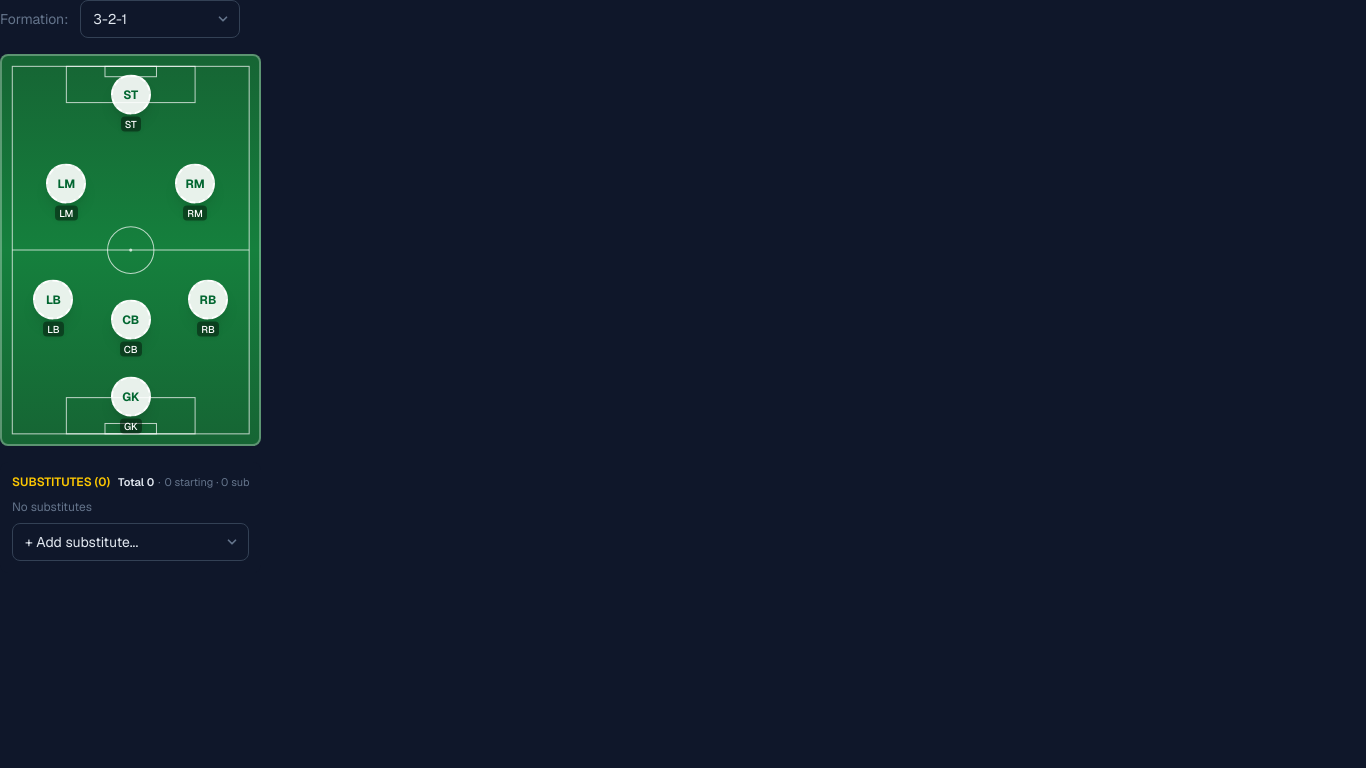
TacticsPanel › close × on modal dismisses it
Click the button with aria-label "assign player to GK": (131, 405) [111, 377, 151, 434]
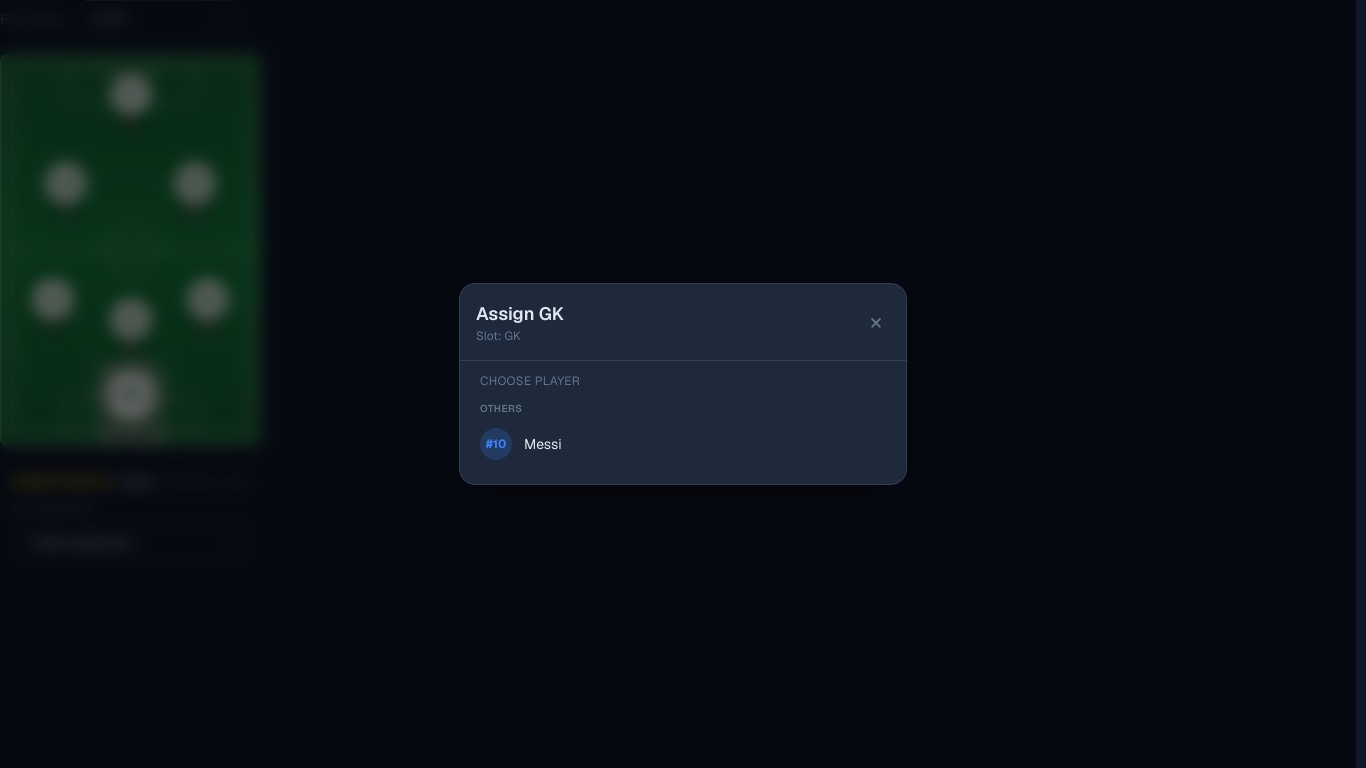
Check: the dialog is shown
Click the button named "close": (876, 322) [862, 310, 890, 334]
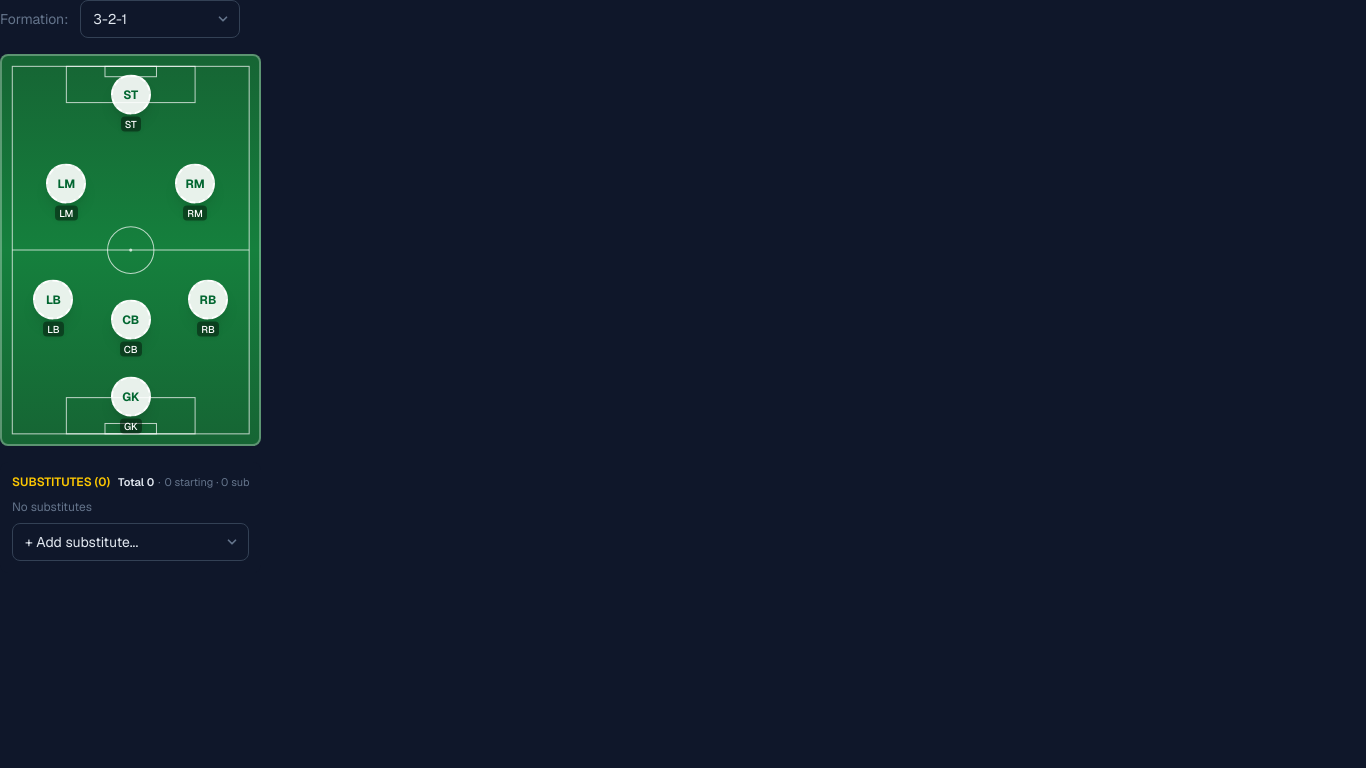
Check: the dialog is gone
